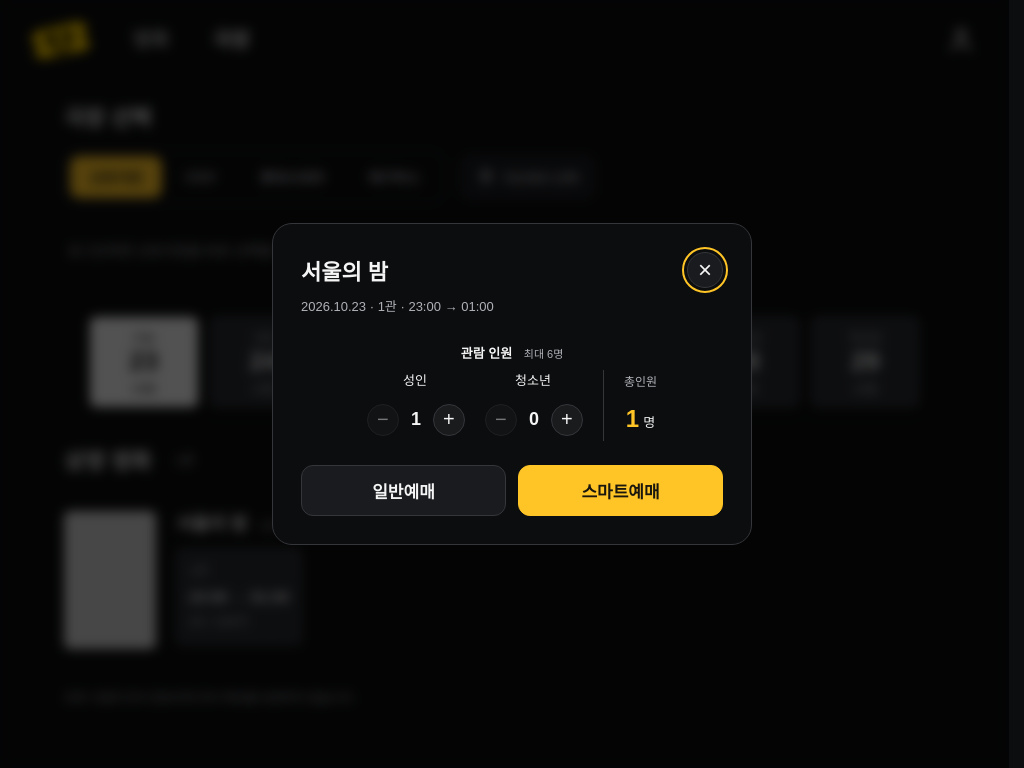
Test: theater entry restores IDs and row panel with audience selection
The width and height of the screenshot is (1024, 768).
Expected: the element named "총인원" reads "1 명", 626,398 -> 655,440
Expected: the element named "상영 회차" is shown, 64,511 -> 331,649
Click the button "일반예매".
click(404, 490)  # box 301,464 -> 506,516
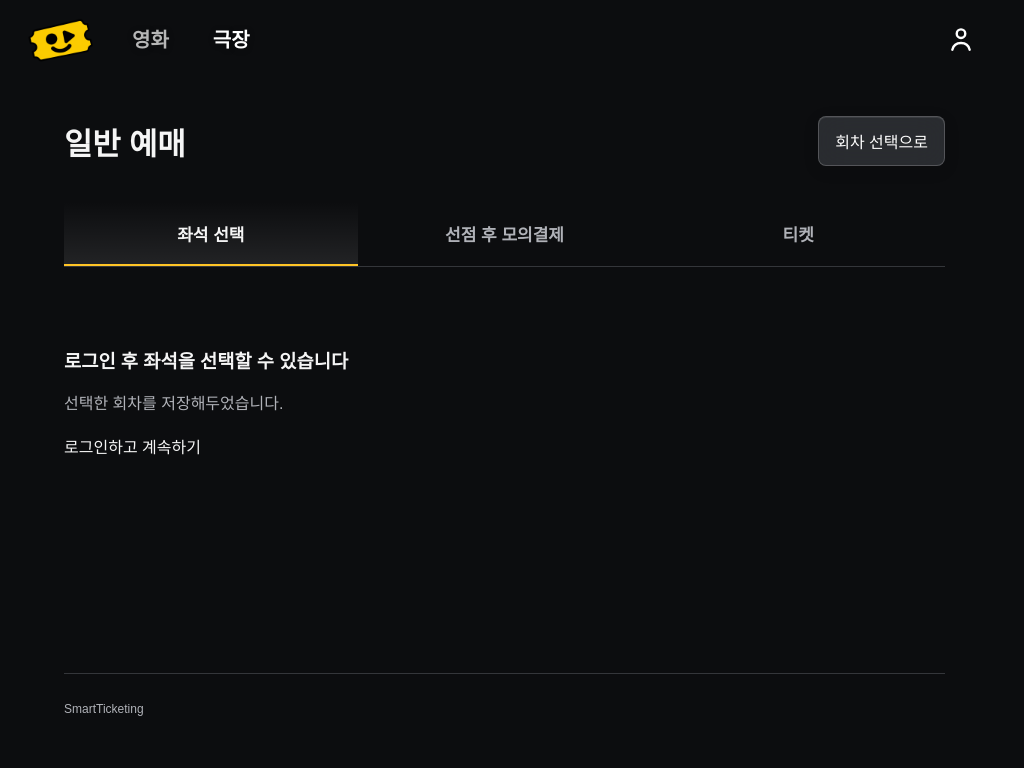
Expected: the heading "일반 예매" is shown, 64,118 -> 186,164
Expected: the heading "로그인 후 좌석을 선택할 수 있습니다" is shown, 64,351 -> 348,372
